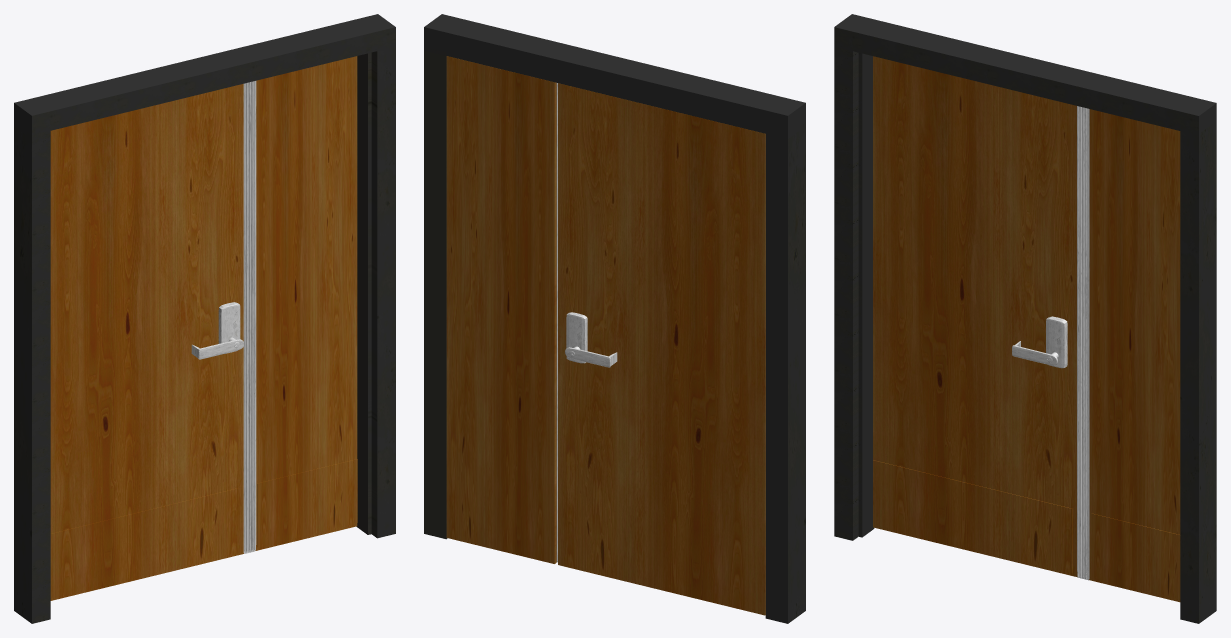
File: door shape 7.fbx
3 views of the same model, side by side, from view 1: azimuth 30°, elevation 25°; view 2: azimuth 150°, elevation 25°; view 3: azimuth 330°, elevation 25° (orthographic).
Parts seen in each view (by area): view 1: Plane, Plane.001, Plane.004, Plane.006, Plane.002, Plane.003, Cube; view 2: Plane, Plane.001, Plane.006, Plane.002, Plane.004, Plane.003, Cube.001; view 3: Plane, Plane.001, Plane.006, Plane.004, Plane.002, Plane.003, Cube.
Boxes of the visible parts, x1,y1,x2,y2 form: Plane: [50, 84, 243, 600]; Plane.001: [255, 56, 357, 550]; Plane.004: [356, 46, 395, 538]; Plane.006: [14, 126, 50, 623]; Plane.002: [14, 14, 395, 135]; Plane.003: [243, 81, 256, 553]; Cube: [218, 302, 240, 353]; Plane: [558, 83, 765, 615]; Plane.001: [446, 56, 556, 563]; Plane.006: [765, 122, 805, 623]; Plane.002: [424, 14, 805, 138]; Plane.004: [424, 47, 447, 539]; Plane.003: [556, 83, 557, 562]; Cube.001: [566, 312, 587, 363]; Plane: [873, 56, 1077, 577]; Plane.001: [1089, 109, 1180, 602]; Plane.006: [834, 46, 874, 540]; Plane.004: [1180, 121, 1216, 623]; Plane.002: [834, 14, 1216, 135]; Plane.003: [1077, 106, 1089, 580]; Cube: [1046, 316, 1067, 368].
Size of the model in its own units: 527 by 703 by 65.38.
3 materials, 3 textured.
